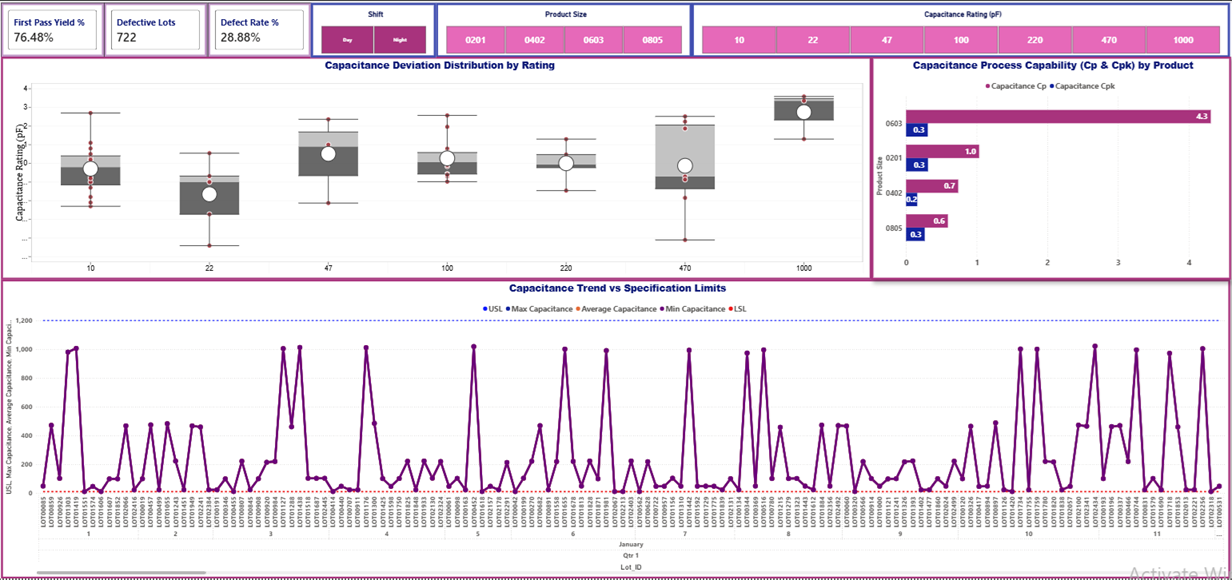

The page's visual inventory and layout, read from the dashboard file:
{"tool":"powerbi","page":{"name":"Product Quality & Process Capability","canvas":[3050,1400],"ordinal":3},"visuals":[{"type":"cardVisual","fields":{"Data":["mlcc_manufacturing fact_manufacturing.Defective Lots"]},"box":[272,6,250,132],"z":0},{"type":"cardVisual","fields":{"Data":["mlcc_manufacturing fact_manufacturing.Defect Rate %"]},"box":[522,6,250,132],"z":1000},{"type":"cardVisual","fields":{"Data":["mlcc_manufacturing fact_manufacturing.First Pass Yield %"]},"box":[22,4,250,132],"z":2000},{"type":"slicer","title":"Product Size","fields":{"Values":["mlcc_manufacturing dim_product.Product_Size"]},"box":[1074.3,4.3,620,132.9],"z":3000},{"type":"slicer","title":"Capacitance Rating (pF)","fields":{"Values":["mlcc_manufacturing dim_product.Capacitance_Rating_pF"]},"box":[1694.3,4.3,1302.9,132.9],"z":4000},{"type":"BoxandWhiskerByMAQ1823AD39DT234AB532063E128AX","title":"Capacitance Deviation Distribution by Rating","fields":{"measure":["Median(mlcc_manufacturing fact_manufacturing.Capacitance Deviation %)"],"category":["mlcc_manufacturing fact_manufacturing.Lot_ID"],"categoryGroup":["mlcc_manufacturing dim_product.Capacitance_Rating_pF"]},"box":[21.7,135,2107.5,540],"z":6000},{"type":"slicer","title":"Shift","fields":{"Values":["mlcc_manufacturing fact_manufacturing.Shift"]},"box":[771.4,4.3,302.9,132.9],"z":8000},{"type":"lineChart","title":"Capacitance Trend vs Specification Limits","fields":{"Category":["mlcc_manufacturing dim_date.Date.Variation.Date Hierarchy.Quarter","mlcc_manufacturing dim_date.Date.Variation.Date Hierarchy.Month","mlcc_manufacturing dim_date.Date.Variation.Date Hierarchy.Day","mlcc_manufacturing fact_manufacturing.Lot_ID"],"Y":["Max(mlcc_manufacturing dim_product.USL_pF)","Max(mlcc_manufacturing fact_manufacturing.Capacitance_pF)","Avg(mlcc_manufacturing fact_manufacturing.Capacitance_pF)","Min(mlcc_manufacturing fact_manufacturing.Capacitance_pF)1","Min(mlcc_manufacturing dim_product.LSL_pF)"]},"box":[22.5,675,2975,725],"z":9000},{"type":"clusteredBarChart","title":"Capacitance Process Capability (Cp & Cpk) by Product","fields":{"Category":["mlcc_manufacturing dim_product.Product_Size"],"Y":["mlcc_manufacturing fact_manufacturing.Capacitance Cp","mlcc_manufacturing fact_manufacturing.Capacitance Cpk"]},"box":[2128.3,135,870,540],"z":10000}]}

Visuals, with their boxes in screenshot pixels (x1, y1, x2, y2):
cardVisual - mlcc_manufacturing fact_manufacturing.Defective Lots: 100, 0, 203, 54
cardVisual - mlcc_manufacturing fact_manufacturing.Defect Rate %: 203, 0, 306, 54
cardVisual - mlcc_manufacturing fact_manufacturing.First Pass Yield %: 0, 0, 100, 53
"Product Size" slicer: 431, 0, 687, 53
"Capacitance Rating (pF)" slicer: 687, 0, 1225, 53
"Capacitance Deviation Distribution by Rating" BoxandWhiskerByMAQ1823AD39DT234AB532063E128AX: 0, 53, 867, 276
"Shift" slicer: 306, 0, 431, 53
"Capacitance Trend vs Specification Limits" lineChart: 0, 276, 1225, 575
"Capacitance Process Capability (Cp & Cpk) by Product" clusteredBarChart: 866, 53, 1225, 276
